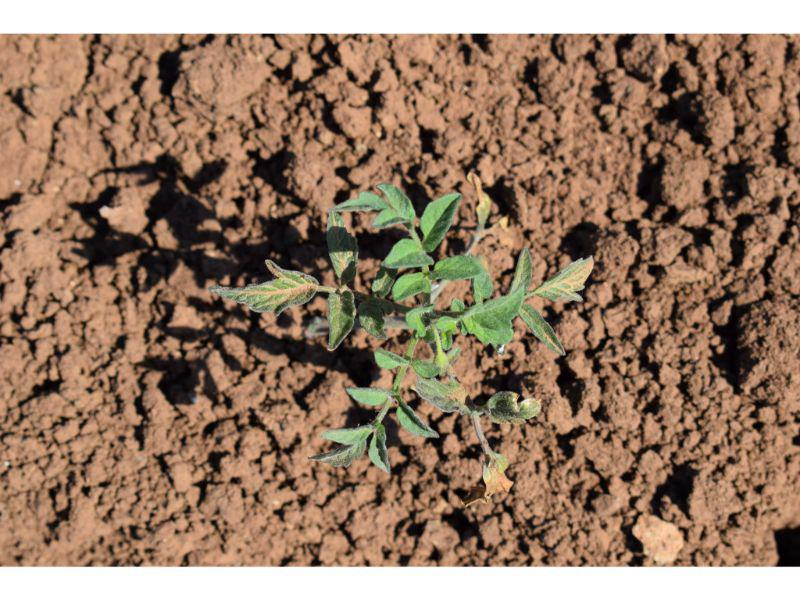tomato: (209, 182, 593, 471)
